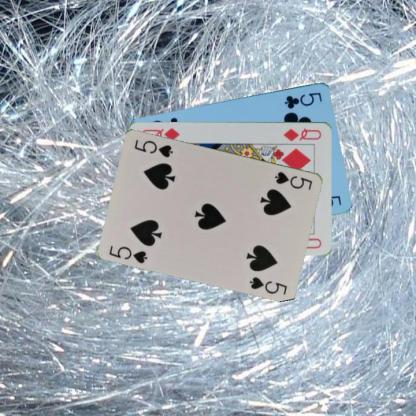5c: (282, 89, 324, 110)
5s: (106, 242, 149, 264), (272, 169, 314, 191)
Qd: (281, 126, 322, 142)
